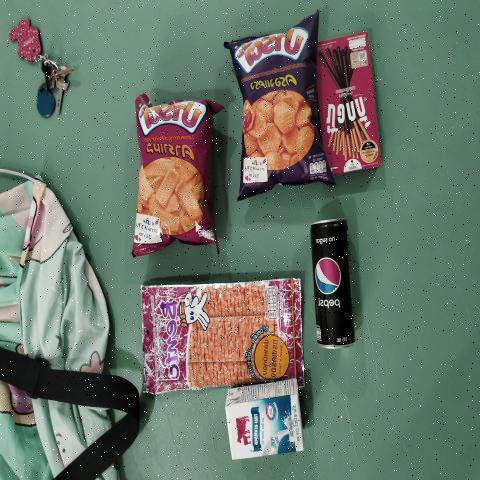bento_red: (144, 285, 297, 386)
party_purple: (248, 26, 313, 185)
party_red: (138, 114, 200, 244)
pepsi_black: (313, 216, 353, 356)
pokki: (325, 31, 371, 171)
thai_denmark: (221, 388, 300, 466)
